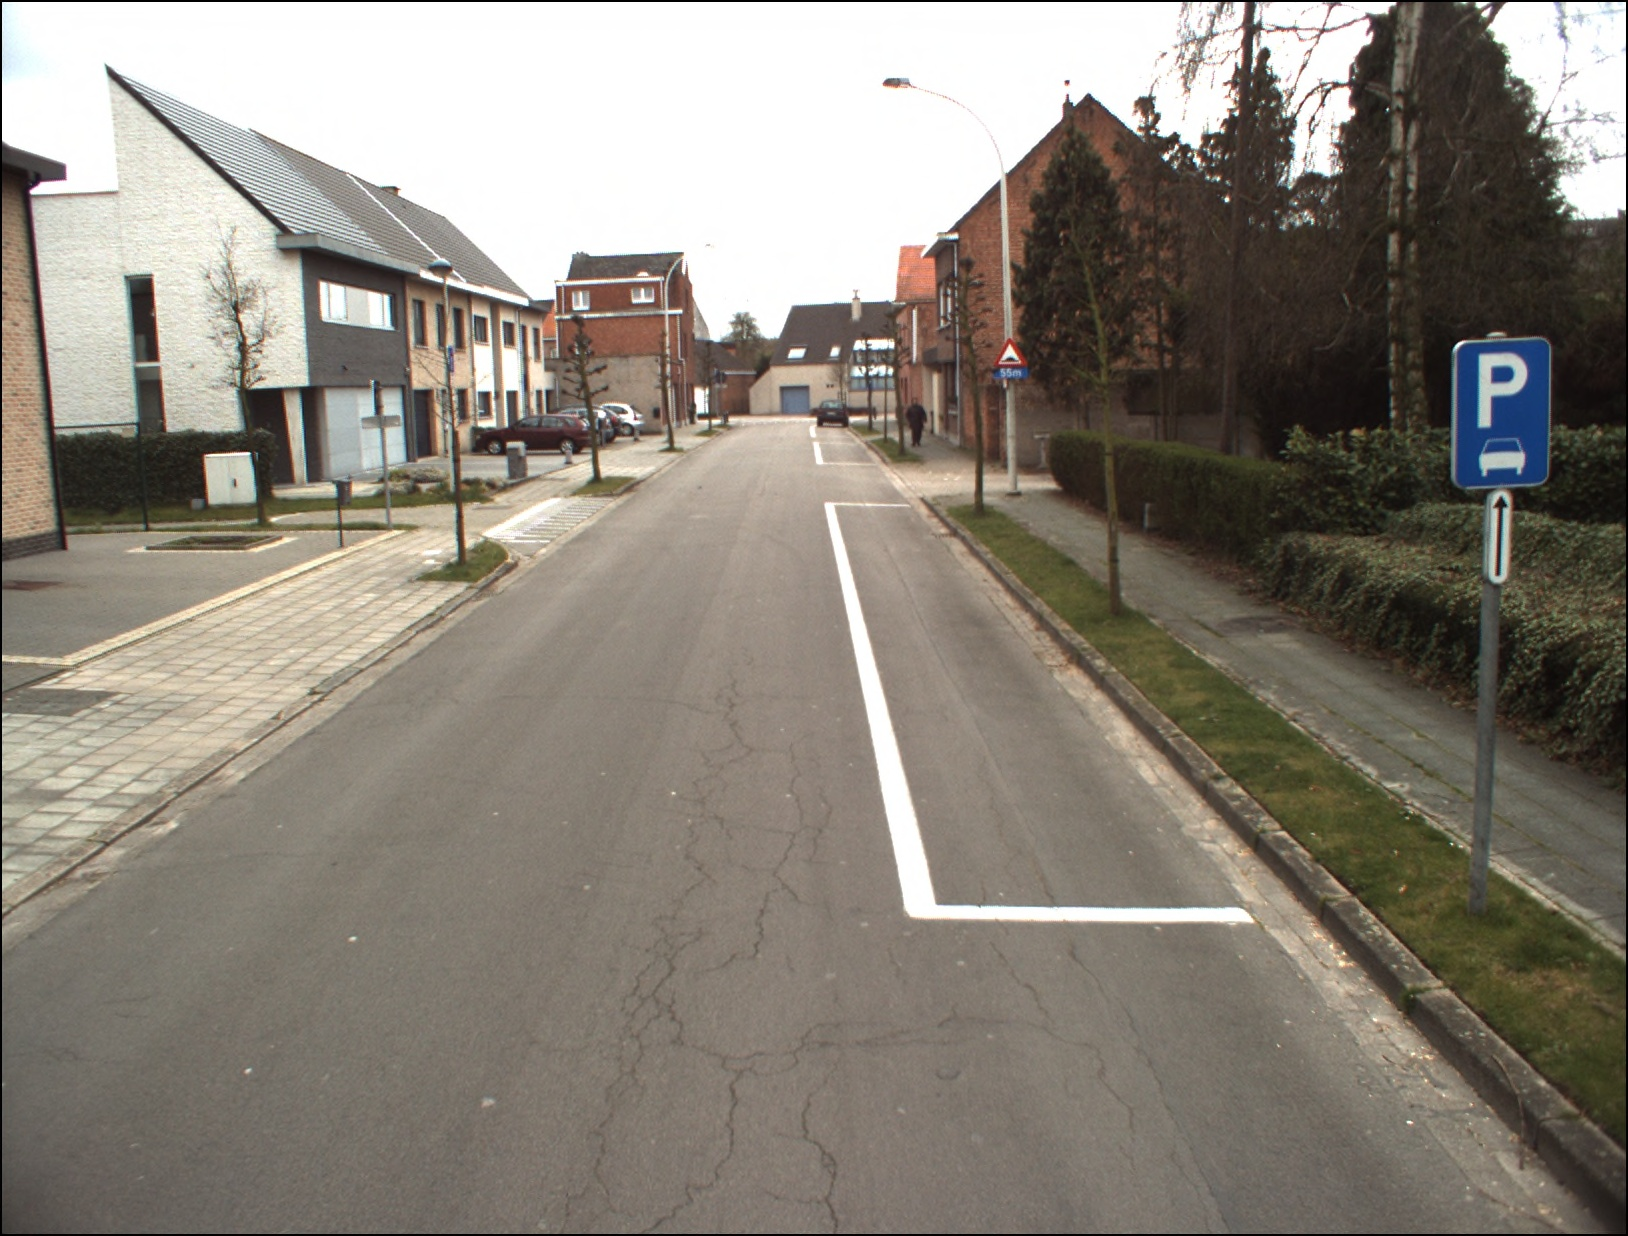parking: (1451, 338, 1554, 488)
speedbump: (988, 339, 1026, 366)
